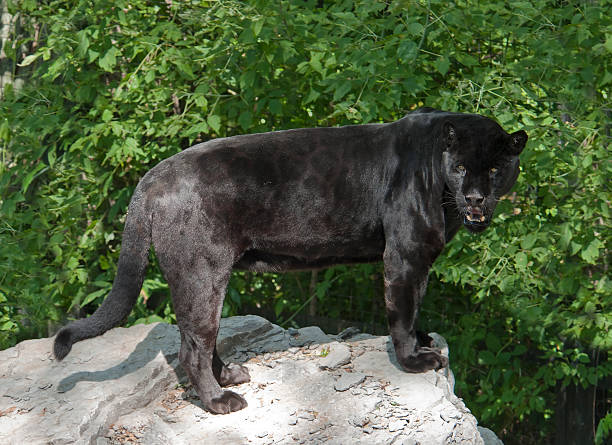panther: (437, 118, 534, 238)
